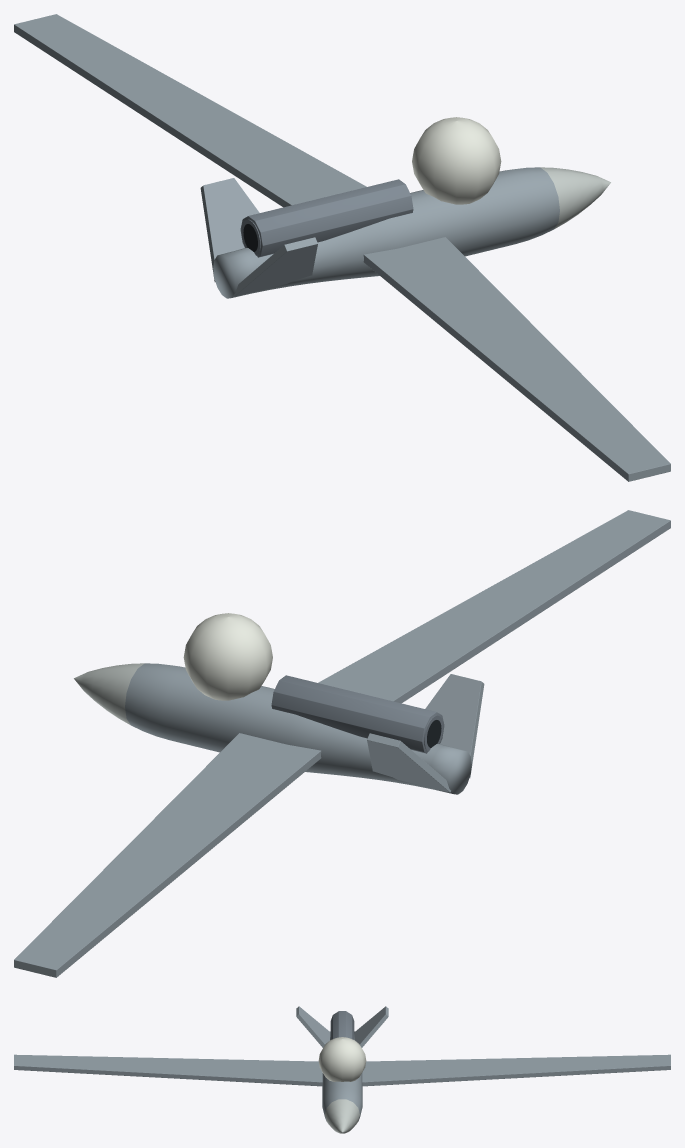
Rendered from usn_uav_mq4c.glb.
3 renders of one model, top to bottom at view 1: azimuth 30°, elevation 25°; view 2: azimuth 150°, elevation 25°; view 3: azimuth 270°, elevation 25°, orthographic. The views are drawn at different scales.
Parts seen in each view (by area): view 1: usn_uav_mq4c; view 2: usn_uav_mq4c; view 3: usn_uav_mq4c.
Part boxes in pixels (x1,y1,x2,y2): usn_uav_mq4c: (14,14,670,481); usn_uav_mq4c: (14,510,670,977); usn_uav_mq4c: (14,1006,670,1133).
Size of the model in its own units: 3.63 by 1.19 by 10.
